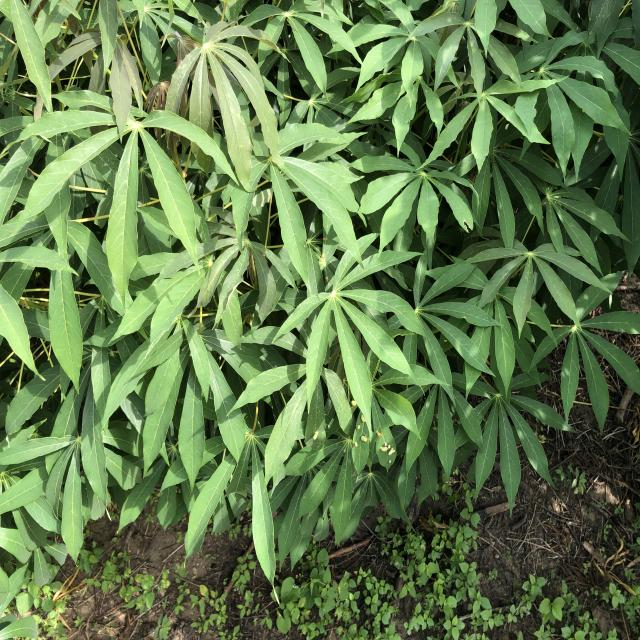Mosca: (352, 423, 383, 452), (378, 443, 395, 470), (346, 392, 357, 408)
